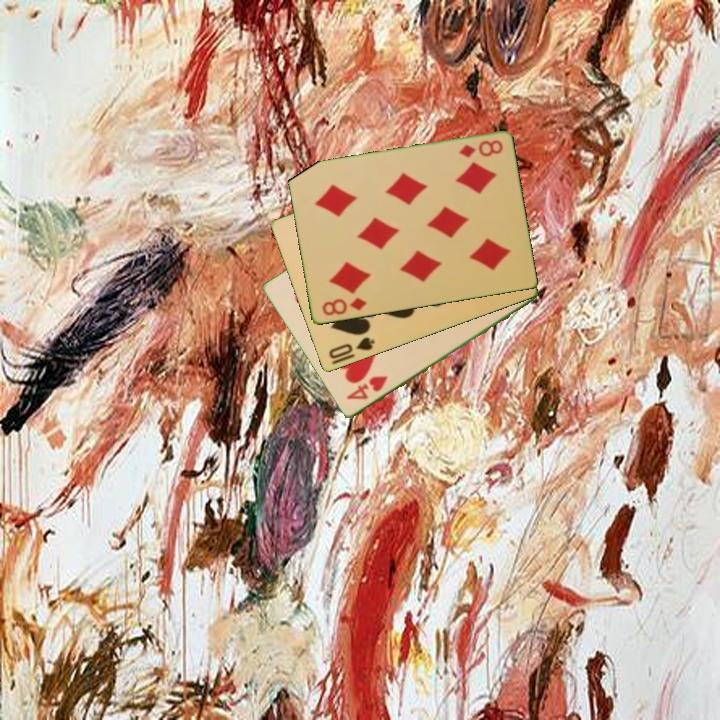10s: (325, 334, 378, 362)
4h: (343, 372, 391, 403)
8d: (319, 294, 369, 319), (455, 137, 506, 161)
